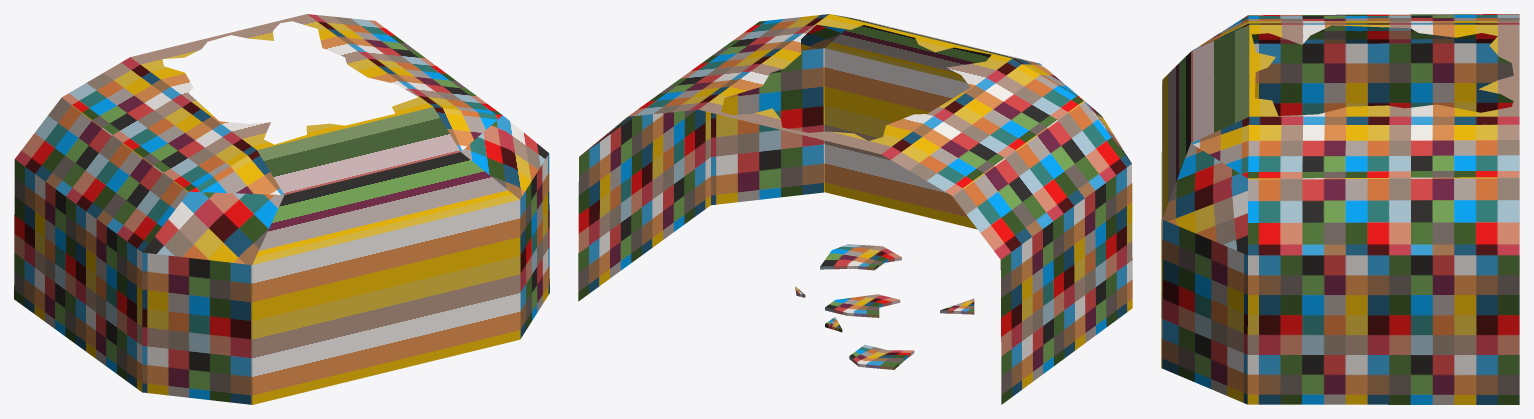
File: Conserv Glass Broken.fbx
3 renders of one model, left to right at view 1: azimuth 30°, elevation 25°; view 2: azimuth 150°, elevation 25°; view 3: azimuth 270°, elevation 25°, orthographic. The views are drawn at different scales.
Parts seen in each view (by area): view 1: Conserv Glass Broken; view 2: Conserv Glass Broken; view 3: Conserv Glass Broken.
Boxes of the visible parts, x1,y1,x2,y2 form: Conserv Glass Broken: (14,14,549,404); Conserv Glass Broken: (578,14,1132,404); Conserv Glass Broken: (1161,14,1519,404).
Bounding box in the file's own units: 470 × 334 × 235.
